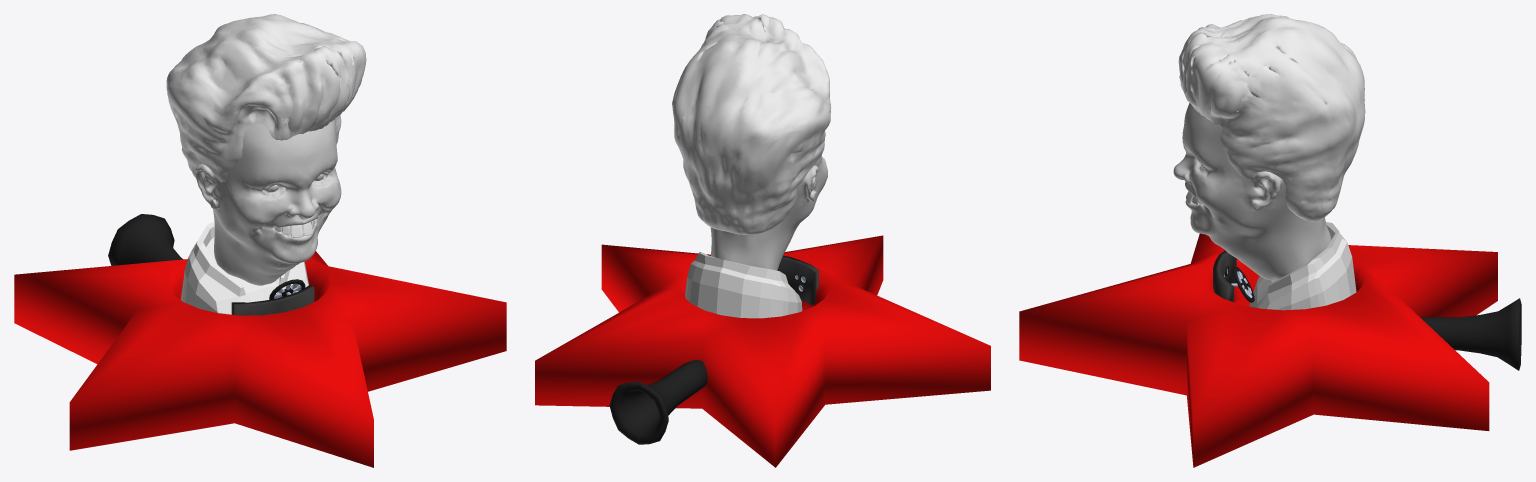
Rendered from 02Dilma.fbx.
3 views of the same model, side by side, from view 1: azimuth 30°, elevation 25°; view 2: azimuth 150°, elevation 25°; view 3: azimuth 270°, elevation 25° (orthographic). The views are drawn at different scales.
Visible parts, largest first — view 1: Circle, Sphere.001, object 5, Cube.001, Circle.001, Cube.002; view 2: Circle, Sphere.001, Cube.001, Circle.001, object 5, Cube.002; view 3: Circle, Sphere.001, object 5, Cube.001, Circle.001, Cube.002.
Boxes of the visible parts, x1,y1,x2,y2 form: Circle: [14, 251, 506, 467]; Sphere.001: [166, 14, 366, 191]; object 5: [195, 118, 341, 285]; Cube.001: [181, 221, 308, 314]; Circle.001: [108, 214, 182, 265]; Cube.002: [231, 284, 314, 315]; Circle: [535, 235, 990, 467]; Sphere.001: [672, 14, 830, 234]; Cube.001: [685, 251, 802, 318]; Circle.001: [609, 359, 707, 444]; object 5: [710, 156, 827, 270]; Cube.002: [777, 255, 818, 304]; Circle: [1019, 233, 1497, 467]; Sphere.001: [1178, 14, 1365, 221]; object 5: [1173, 103, 1331, 280]; Cube.001: [1249, 222, 1356, 310]; Circle.001: [1420, 298, 1521, 370]; Cube.002: [1213, 250, 1236, 302].
Size of the model in its own units: 696 by 547 by 701.
